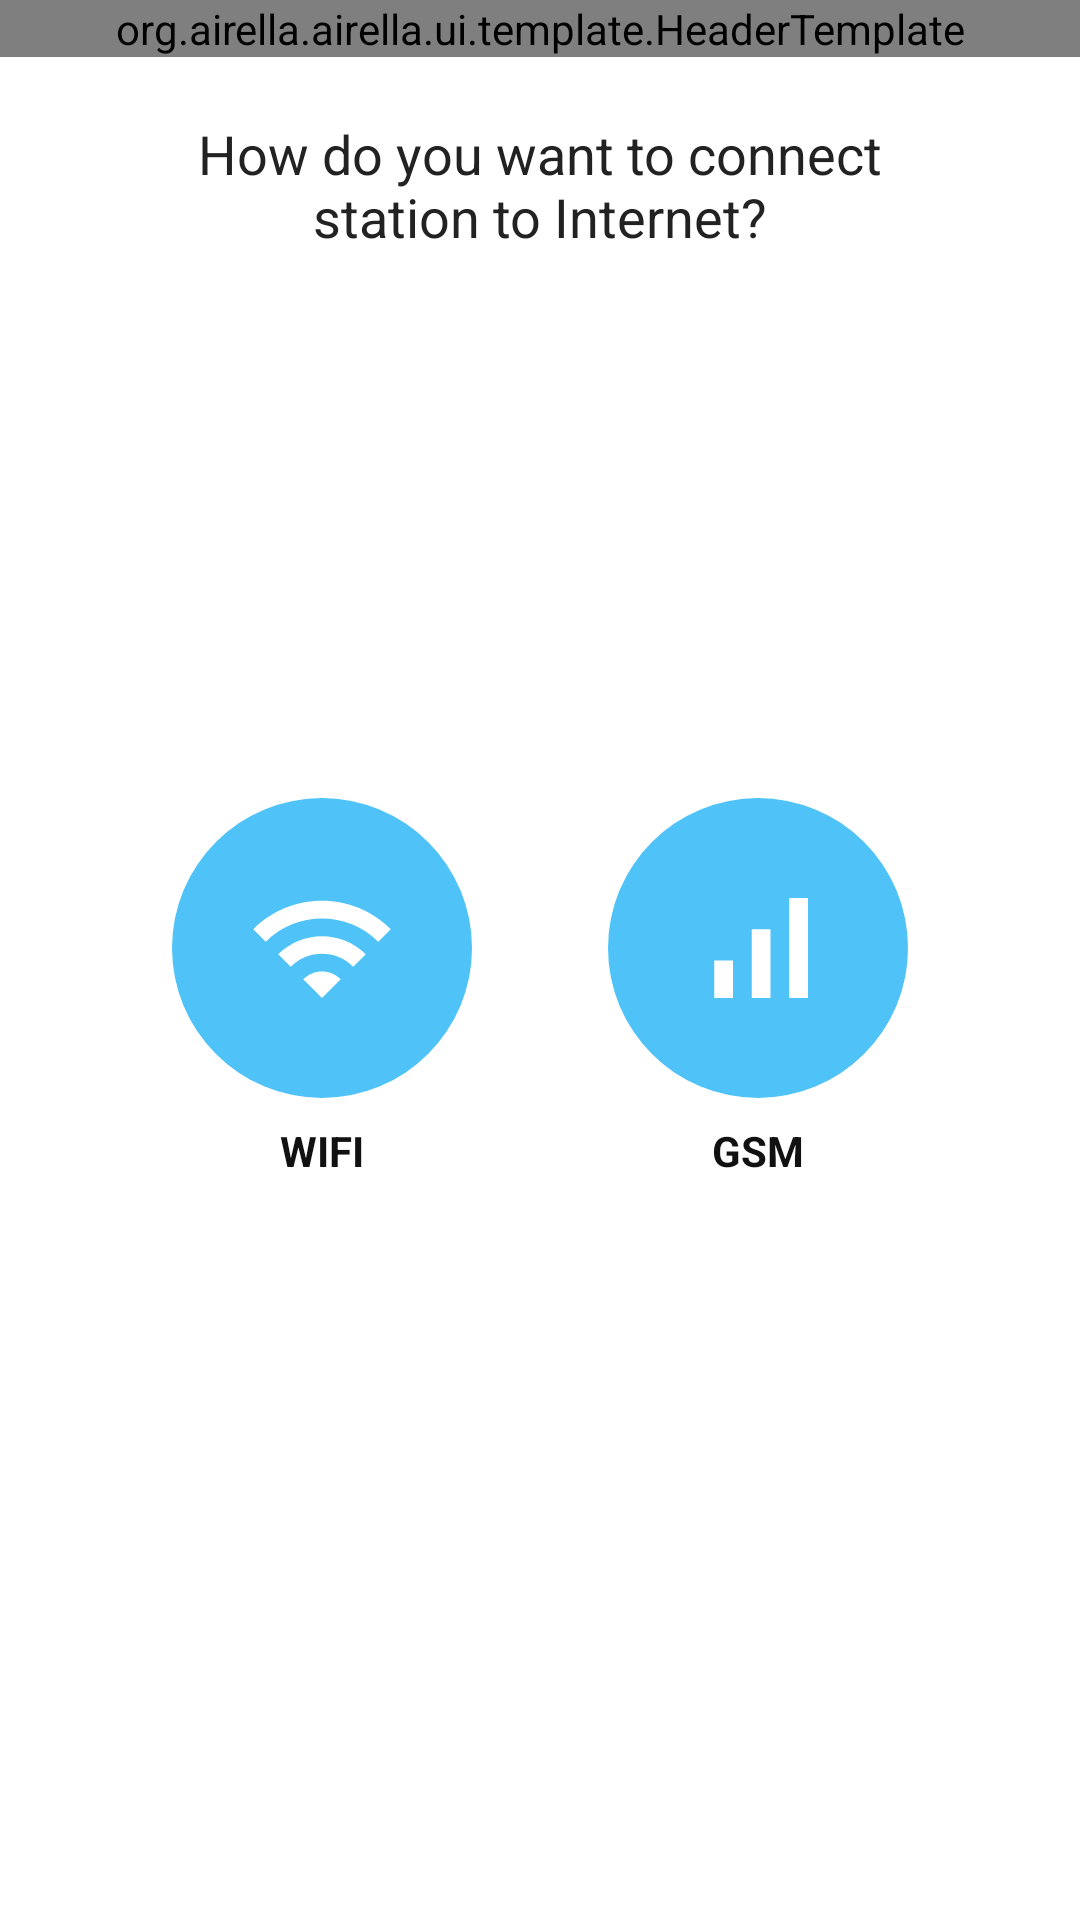

Icon bounding boxes for this 1080x1920 phone screenshot, format (x1, y1, x2, y2):
signal cellular: (608, 798, 908, 1098)
